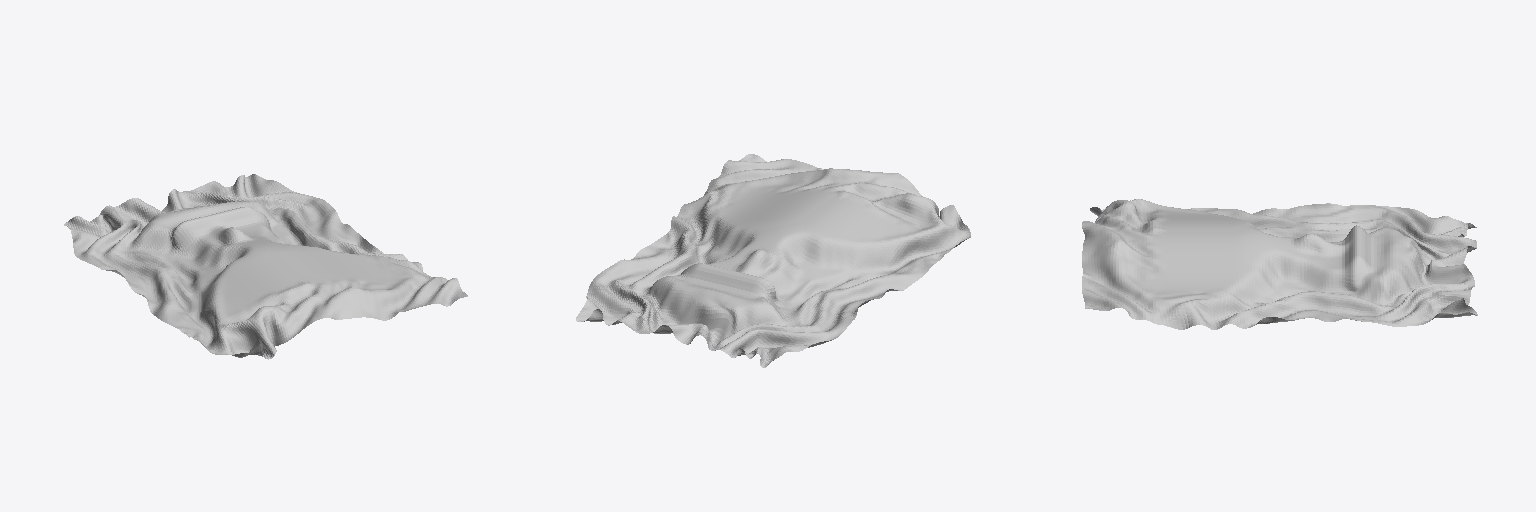
The model's file is portraitModel.obj.
The picture shows the model from 3 angles: view 1: azimuth 30°, elevation 25°; view 2: azimuth 150°, elevation 25°; view 3: azimuth 270°, elevation 25°; orthographic projection.
Parts seen in each view (by area): view 1: abstract; view 2: abstract; view 3: abstract.
Boxes of the visible parts, box(x1,y1,x2,y2) form: abstract: box(64, 174, 467, 359); abstract: box(576, 154, 970, 367); abstract: box(1082, 199, 1477, 329).
Bounding box in the file's own units: 0.5766 × 0.1057 × 0.7959.